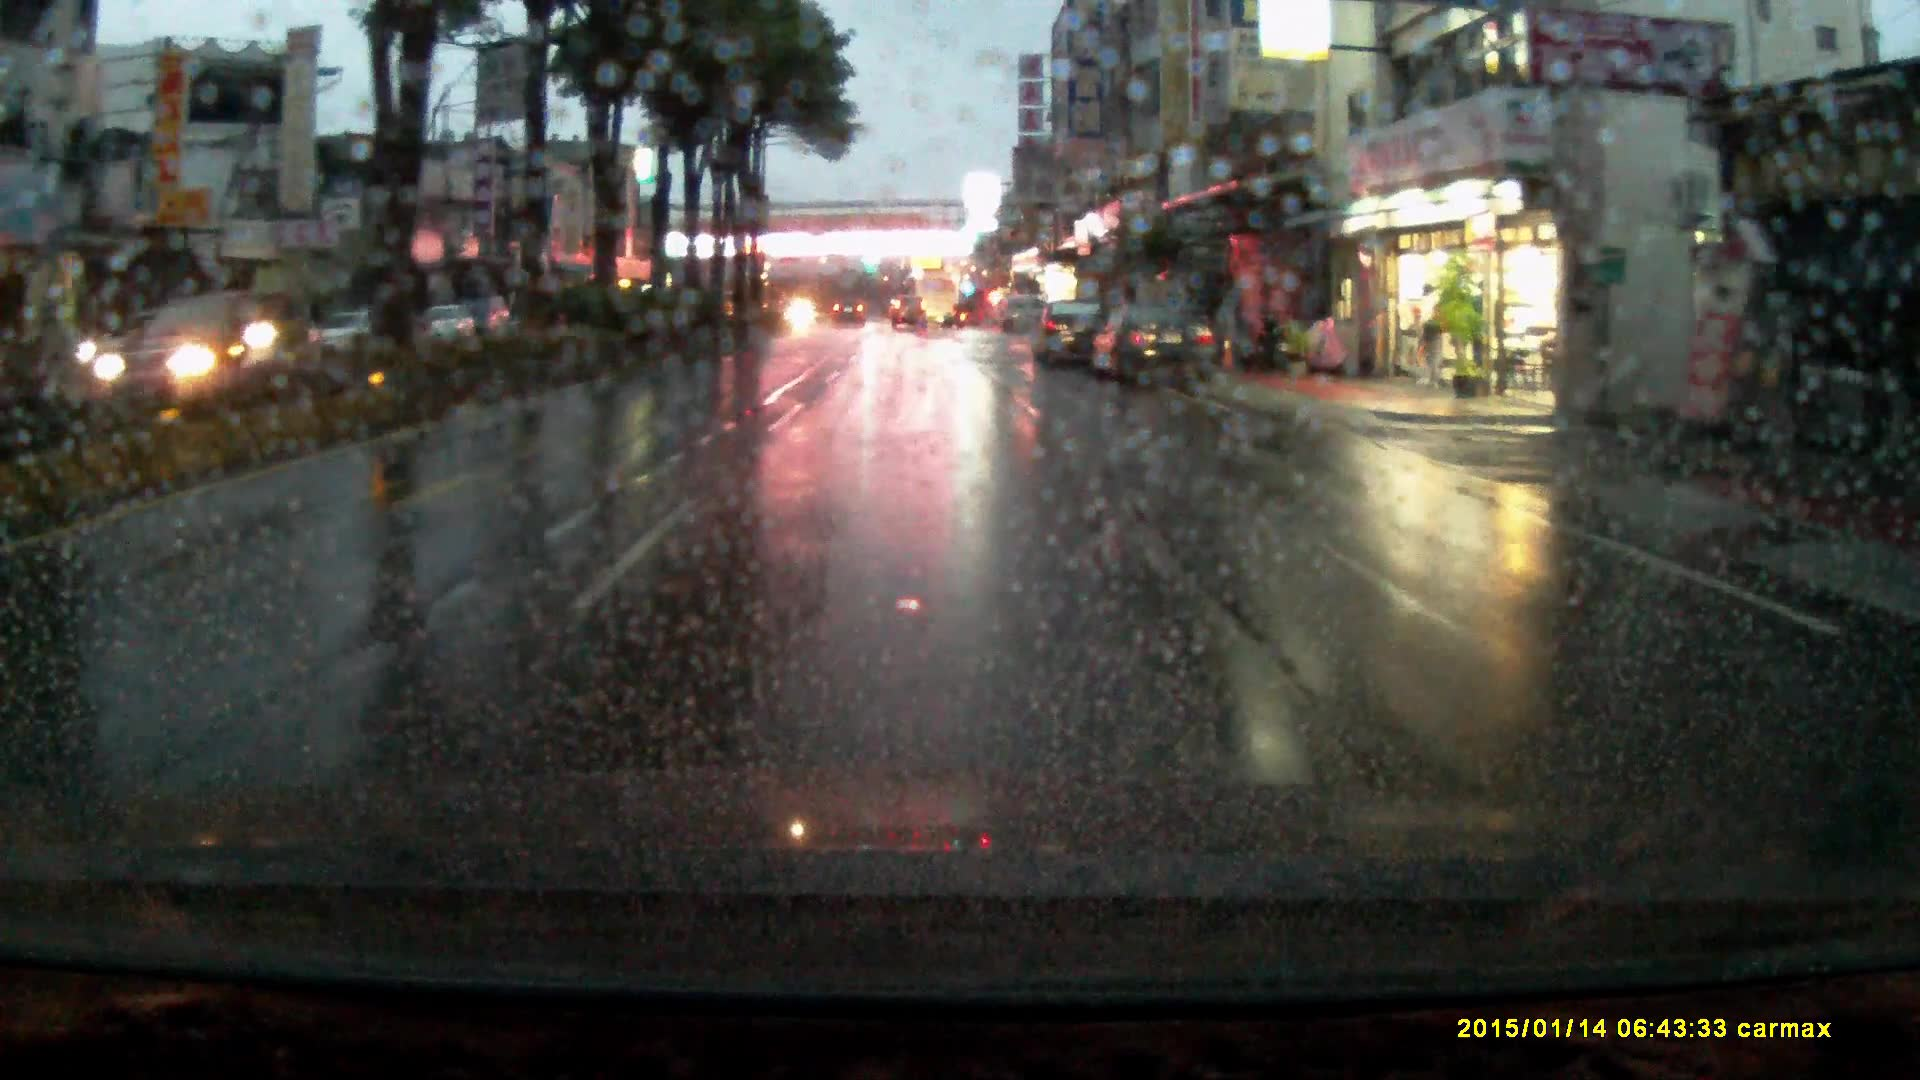rider: (233, 264, 325, 421)
vehicle: (82, 289, 271, 405), (1088, 299, 1219, 390), (1027, 296, 1110, 370), (313, 309, 378, 356), (905, 278, 959, 330), (995, 296, 1049, 336), (427, 304, 475, 338), (892, 294, 928, 331), (834, 297, 868, 326)
